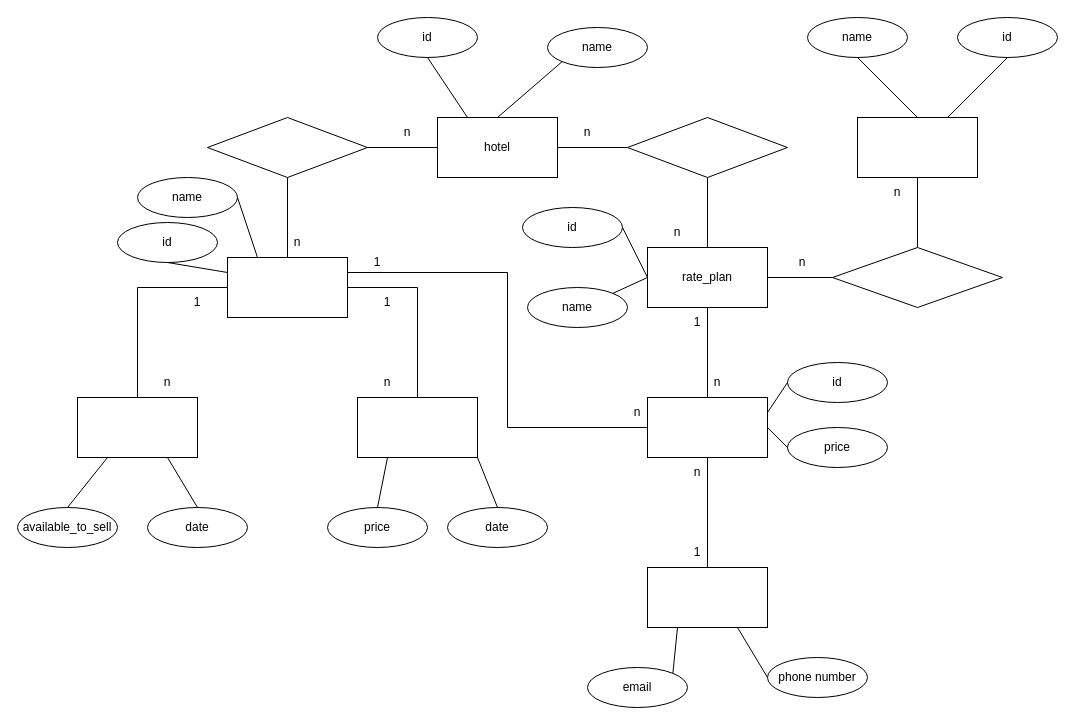
This 1075x725 diagram has some shape labels left out. The shapes that lost their labels are listed below. From the top down, each one's centre as x and y in pixels, then its label:
the point at 287,147: hotel_rel_room_type
the point at 707,147: hotel_rel_rate_plan
the point at 917,147: period
the point at 287,287: room_type
the point at 917,277: rate_plan_rel_period
the point at 137,427: room_availability
the point at 417,427: room_rate
the point at 707,427: booking
the point at 707,597: guest
